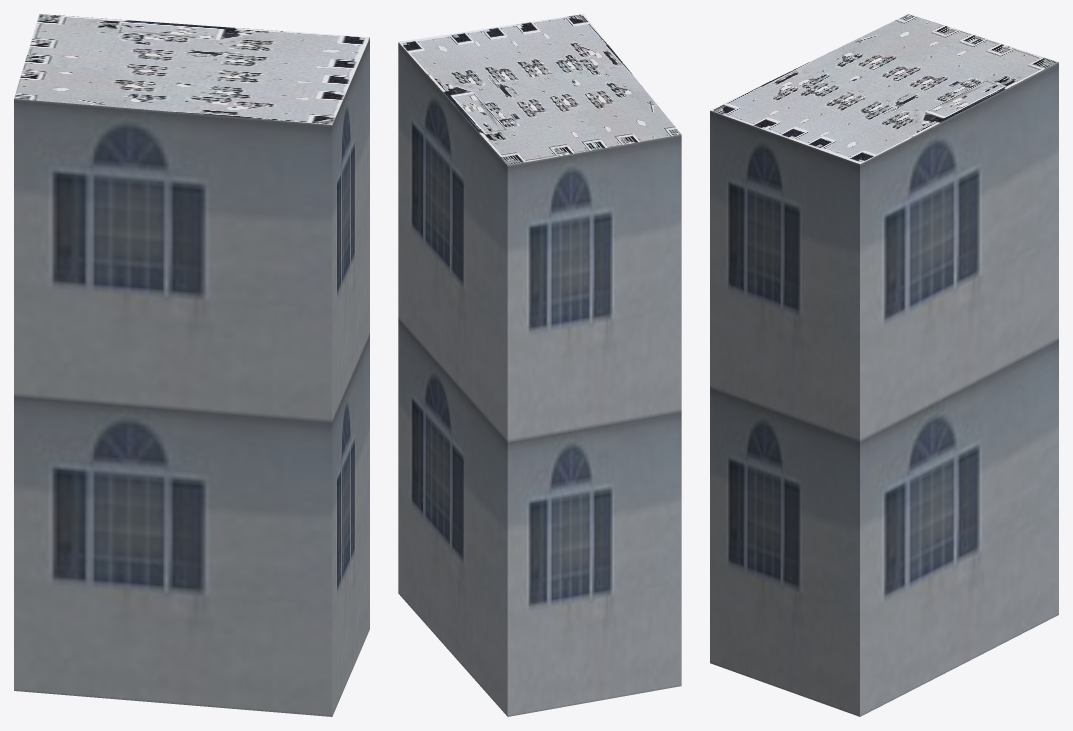
File: ResTex__1920.fbx
The picture shows the model from 3 angles, left to right: view 1: azimuth 30°, elevation 25°; view 2: azimuth 150°, elevation 25°; view 3: azimuth 270°, elevation 25°; orthographic projection. The views are drawn at different scales.
Parts seen in each view (by area): view 1: CityEngineMaterial_17_m, CityEngineMaterial_4_m; view 2: CityEngineMaterial_17_m, CityEngineMaterial_4_m; view 3: CityEngineMaterial_17_m, CityEngineMaterial_4_m.
Part boxes in pixels (x1,y1,x2,y2): CityEngineMaterial_17_m: (14,38,369,716); CityEngineMaterial_4_m: (14,14,369,124); CityEngineMaterial_17_m: (398,42,681,716); CityEngineMaterial_4_m: (398,14,681,165); CityEngineMaterial_17_m: (710,62,1058,716); CityEngineMaterial_4_m: (710,14,1058,163).
Bounding box in the file's own units: 3.5 × 6 × 3.43.
Materials: 2 (2 with a texture image).
